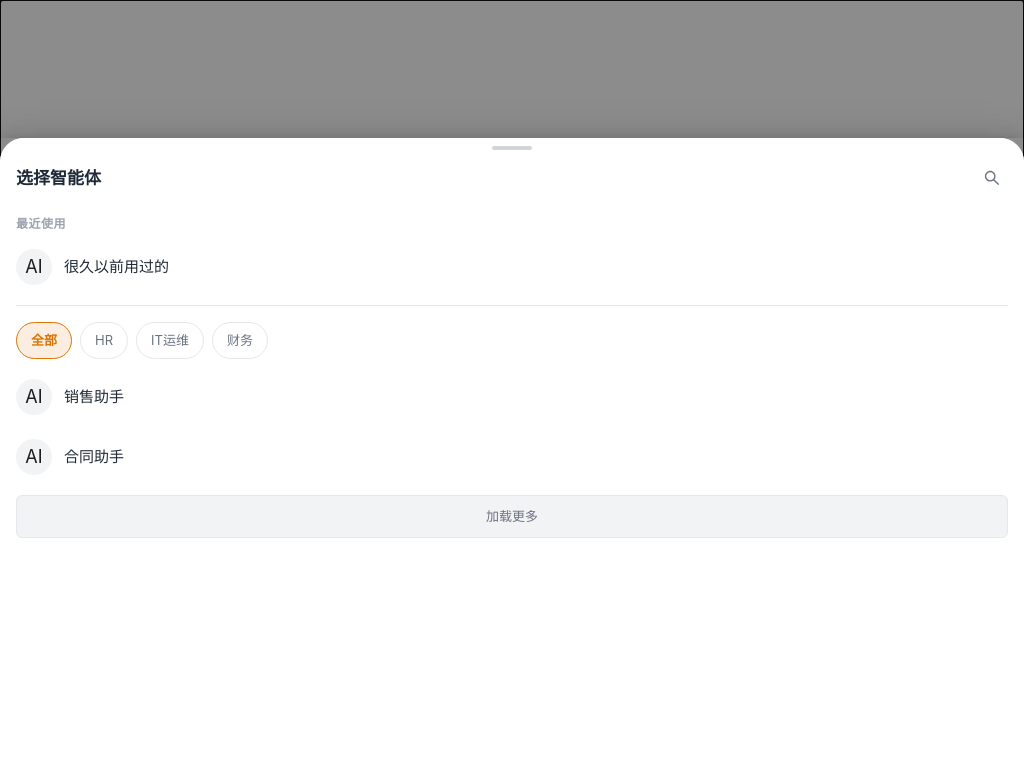
Test: MobileCatalogSheet, server-paged mode › loads the next page through the server cursor
This screenshot has width=1024, height=768.
Click the button with class "mobile-sheet__more-btn": [512, 517] box 16,495 -> 1008,538
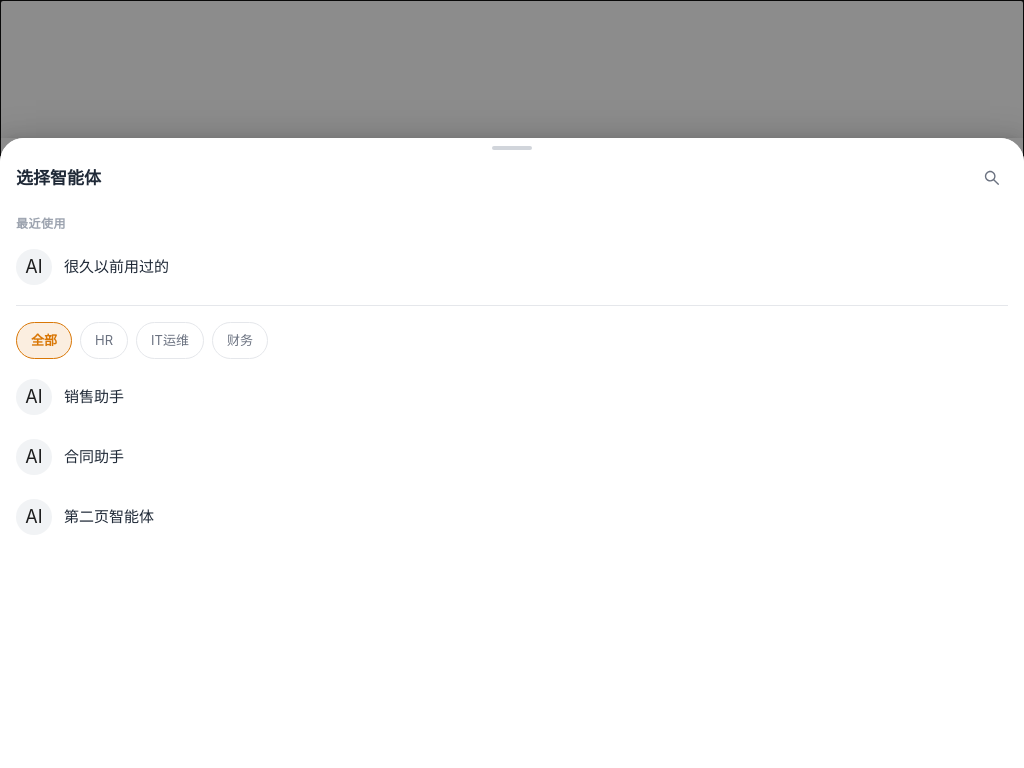
Result: the button with class "mobile-sheet__row" showing "AI 第二页智能体" is shown at 0,487 -> 1023,547
Result: the button with class "mobile-sheet__more-btn" is gone
